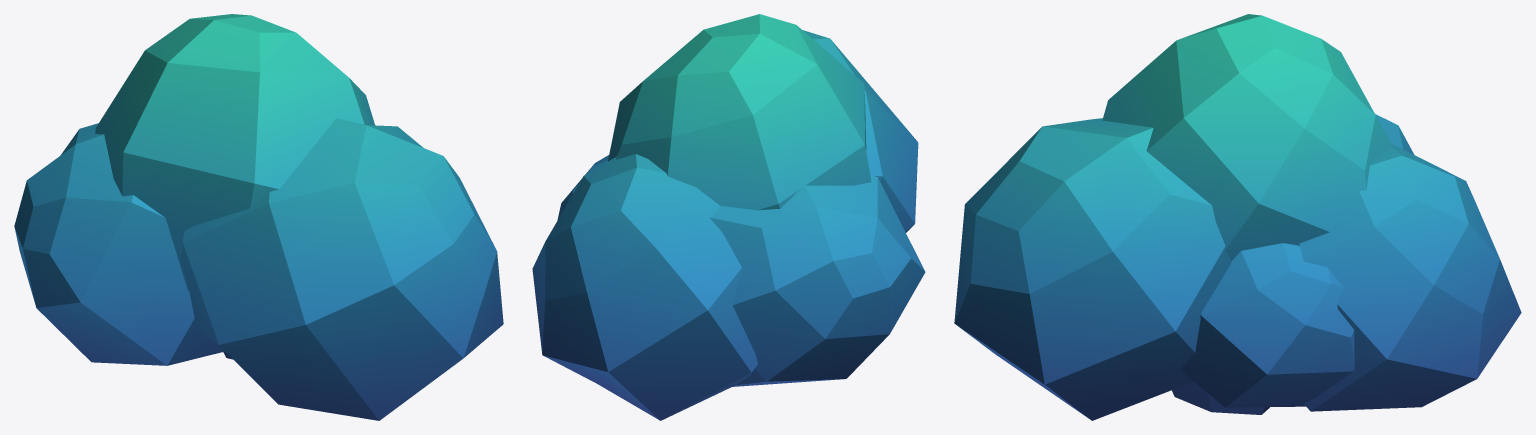
File: m_Bush02.fbx
The picture shows the model from 3 angles, left to right: view 1: azimuth 30°, elevation 25°; view 2: azimuth 150°, elevation 25°; view 3: azimuth 270°, elevation 25°; orthographic projection. The views are drawn at different scales.
Parts seen in each view (by area): view 1: m_Bush02; view 2: m_Bush02; view 3: m_Bush02.
Part boxes in pixels (left/top/right/bottom): m_Bush02: left=14, top=14, right=503, bottom=420; m_Bush02: left=532, top=14, right=925, bottom=420; m_Bush02: left=954, top=14, right=1521, bottom=420.
Bounding box in the file's own units: 56.71 × 49.47 × 73.87.
